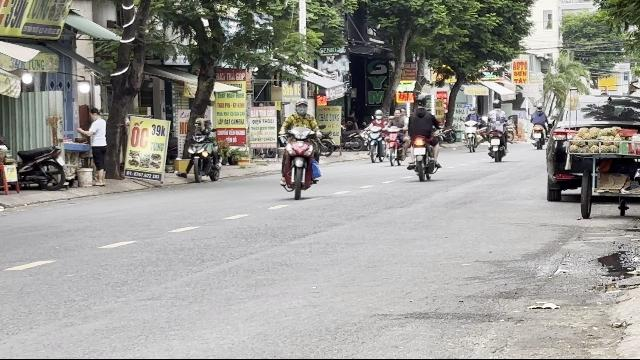helmet: (295, 97, 309, 113)
motorcyclist: (276, 97, 322, 199)
